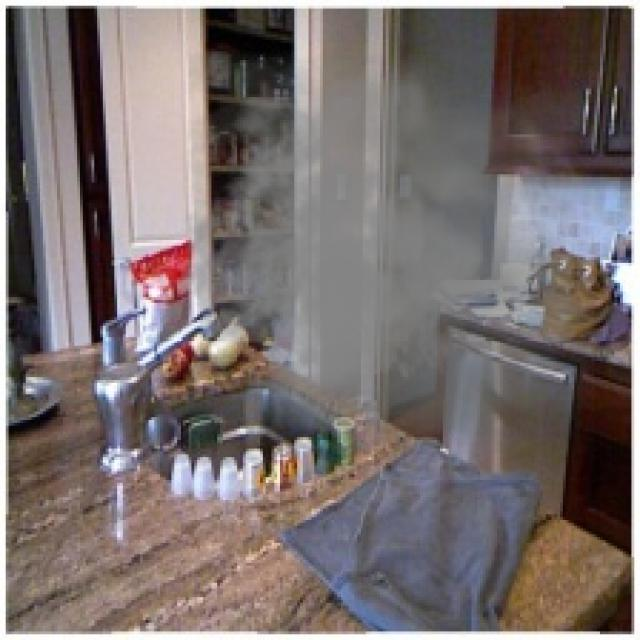smoke: (175, 52, 594, 457)
